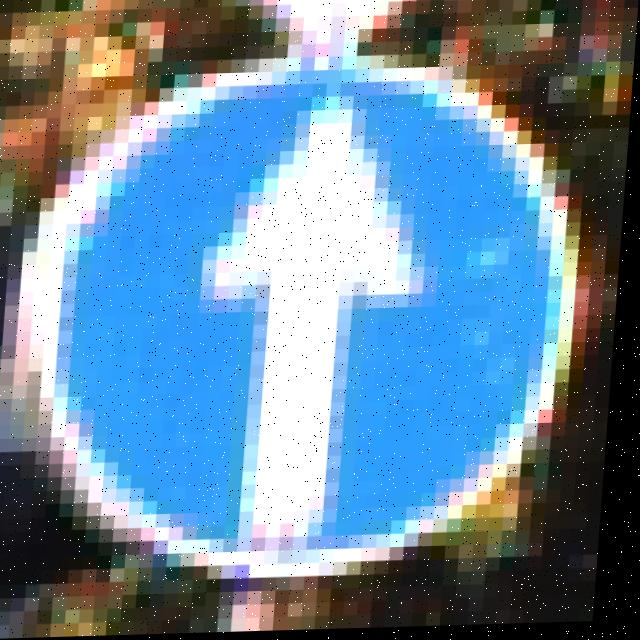compulsory_ahead: (0, 48, 542, 592)
